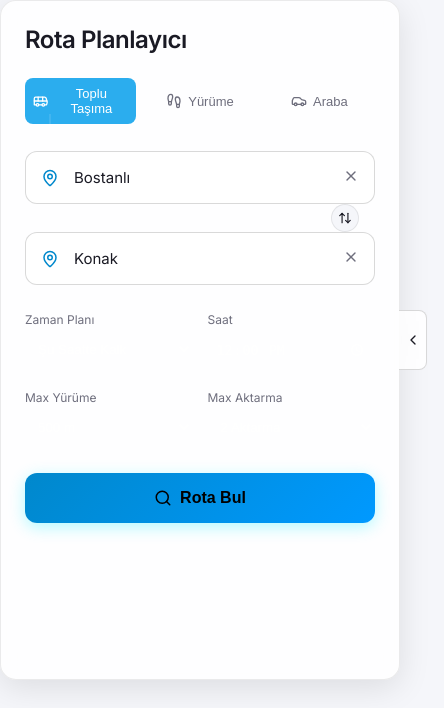
Test: TripPlanner Component › successful journey search displays results
This screenshot has width=444, height=708.
Click the button "Rota Bul" at x=200, y=498, box [25,473,375,523]
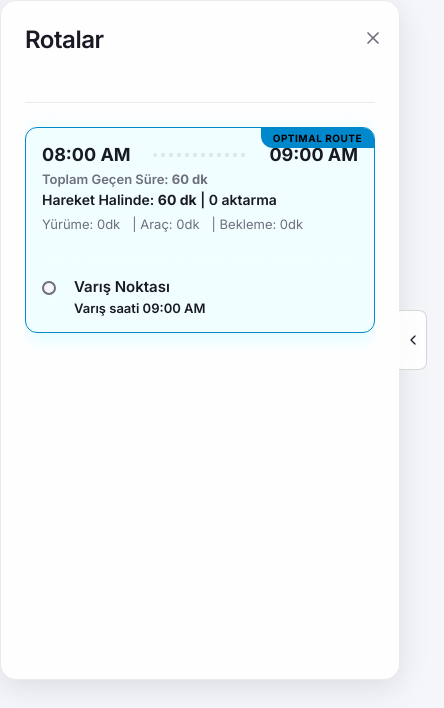
Now the text "60 dk" next to "Toplam Geçen Süre:" is shown, box [172,171,208,187]
Now the text "Hareket Halinde: 60 dk | 0 aktarma" is shown, box [42,191,277,208]
